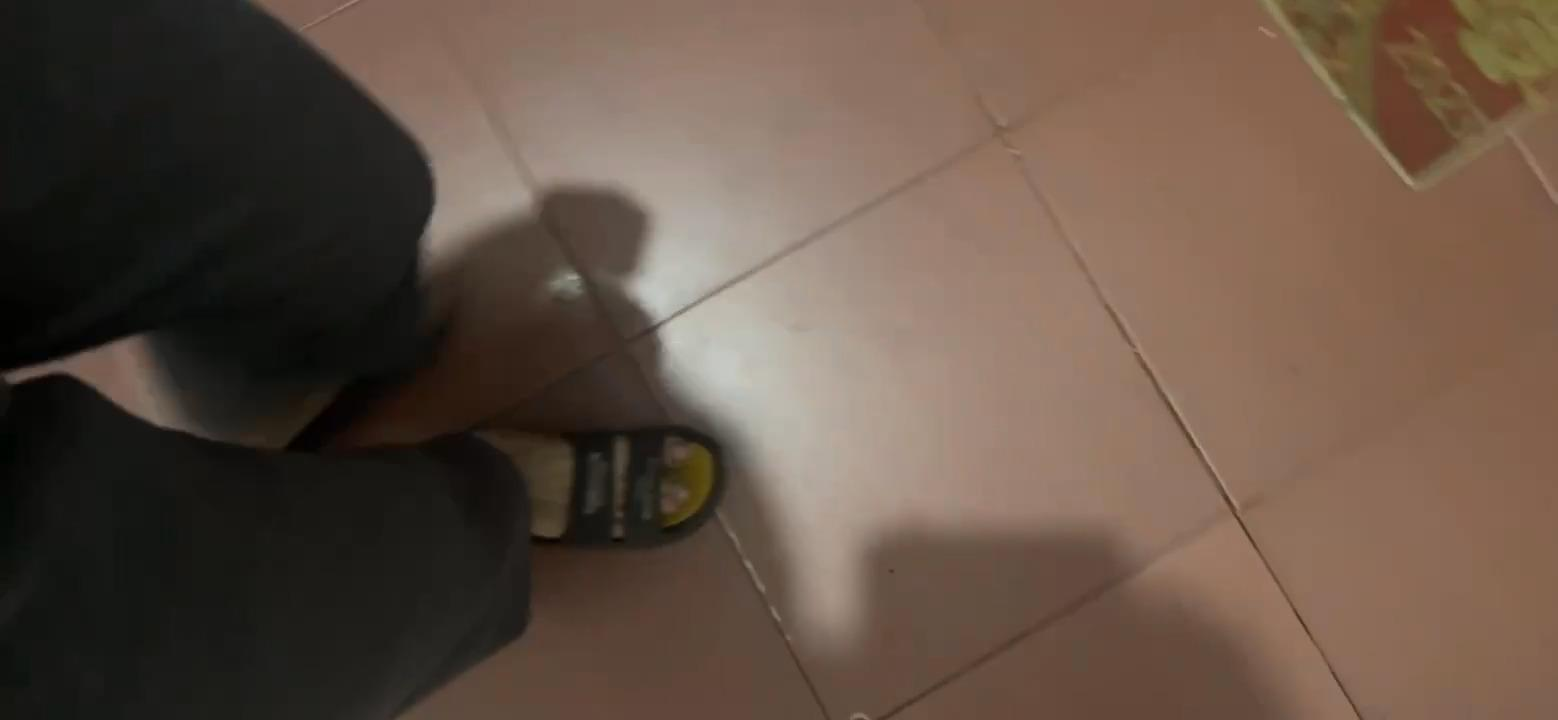no-boot: (459, 421, 745, 566)
